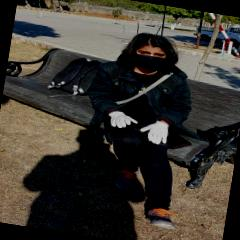gloved: (140, 118, 170, 146), (108, 110, 138, 130)
